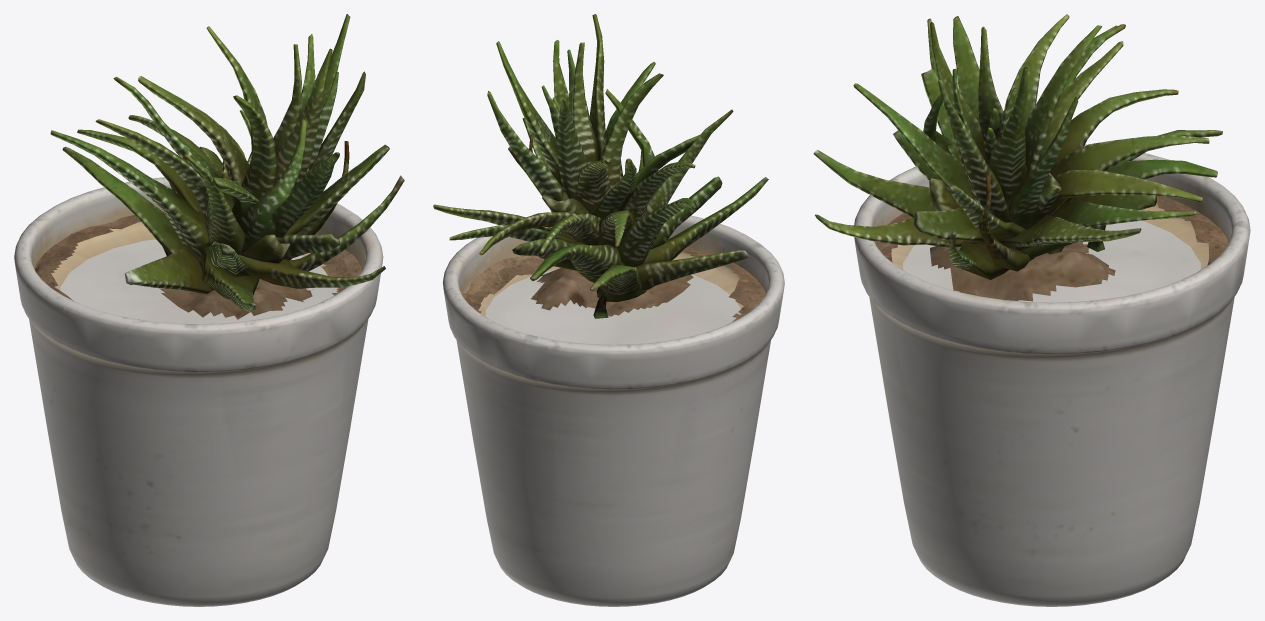
File: plant.glb
The picture shows the model from 3 angles, left to right: view 1: azimuth 30°, elevation 25°; view 2: azimuth 150°, elevation 25°; view 3: azimuth 270°, elevation 25°; orthographic projection. The views are drawn at different scales.
Visible parts, largest first — view 1: potted_plant_04_pot, potted_plant_04_plant, potted_plant_04_dirt; view 2: potted_plant_04_pot, potted_plant_04_plant, potted_plant_04_dirt; view 3: potted_plant_04_pot, potted_plant_04_plant, potted_plant_04_dirt.
Part boxes in pixels (x1,y1,x2,y2): potted_plant_04_pot: [14, 177, 383, 606]; potted_plant_04_plant: [50, 14, 404, 311]; potted_plant_04_dirt: [34, 211, 362, 319]; potted_plant_04_pot: [442, 215, 784, 606]; potted_plant_04_plant: [433, 14, 768, 318]; potted_plant_04_dirt: [462, 247, 765, 322]; potted_plant_04_pot: [854, 144, 1250, 606]; potted_plant_04_plant: [813, 14, 1222, 279]; potted_plant_04_dirt: [875, 196, 1228, 301].
Bounding box in the file's own units: 0.1679 × 0.2675 × 0.1848.
Materials: 1 (1 with a texture image).
